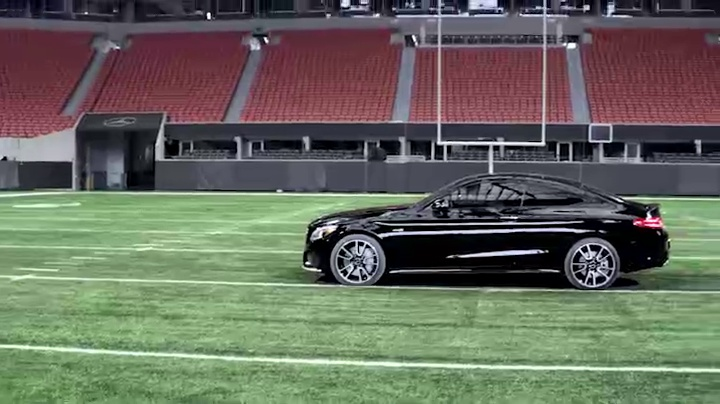amg: (300, 172, 673, 295)
